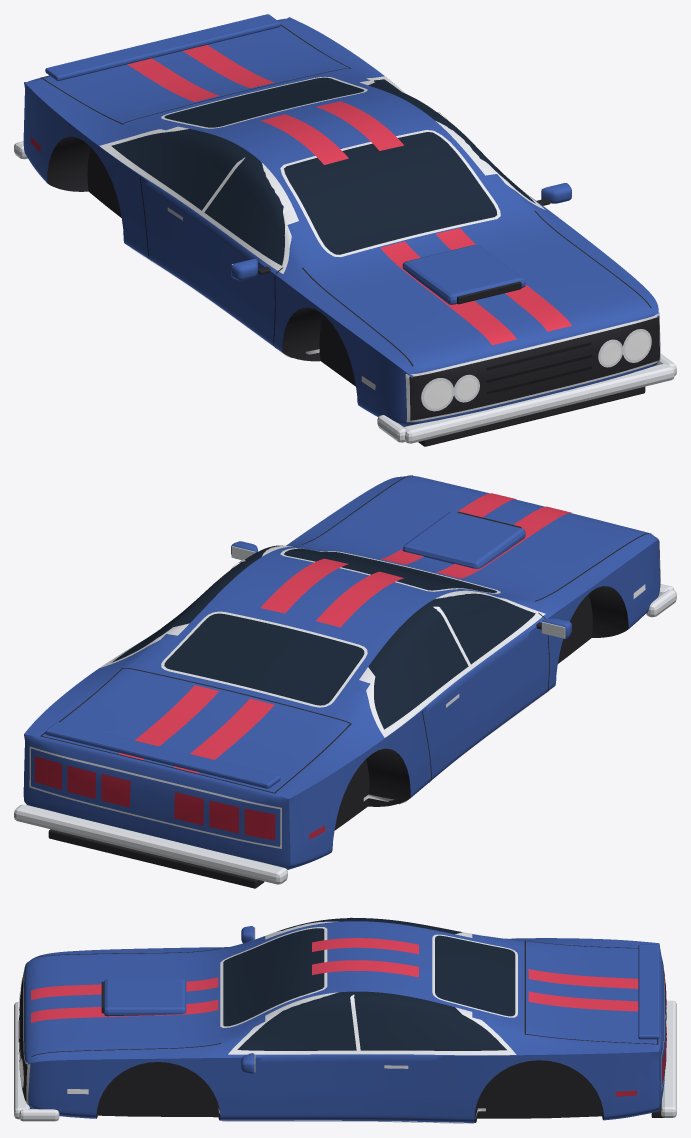
File: brawler.glb
The picture shows the model from 3 angles, top to bottom: view 1: azimuth 30°, elevation 25°; view 2: azimuth 150°, elevation 25°; view 3: azimuth 270°, elevation 25°; orthographic projection. The views are drawn at different scales.
Parts seen in each view (by area): view 1: body; view 2: body; view 3: body.
Boxes of the visible parts, bbox=[...] form: body: bbox=[14, 14, 676, 446]; body: bbox=[14, 475, 676, 888]; body: bbox=[14, 917, 676, 1123].
Bounding box in the file's own units: 2.44 × 1.04 × 4.96.
